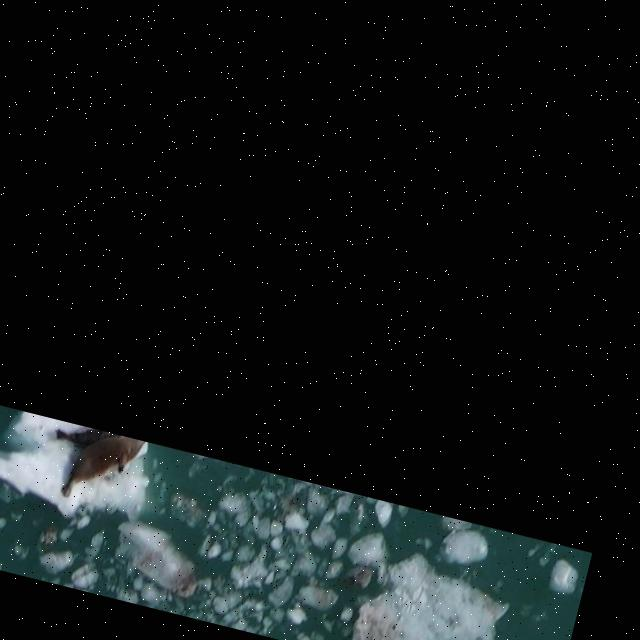seal: (46, 422, 152, 500), (56, 429, 110, 445)
